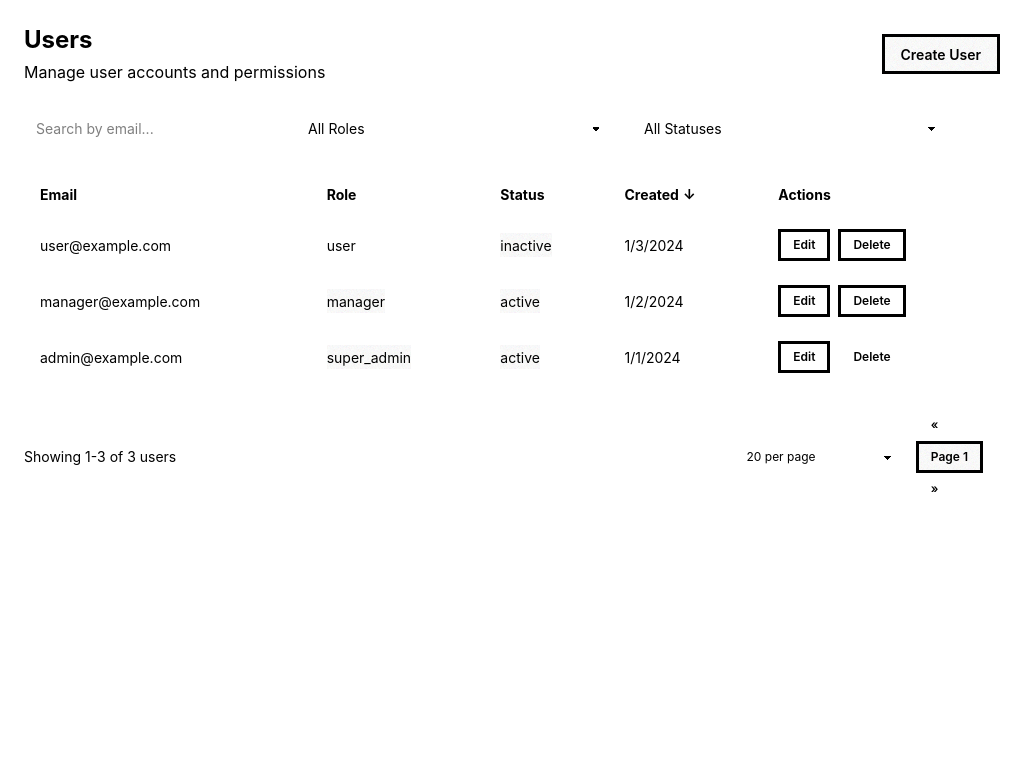
UsersTable › Create User Modal › should close modal when cancel clicked
Click the button with test id "create-user-btn".
click(941, 54)  # box [882, 34, 1000, 74]
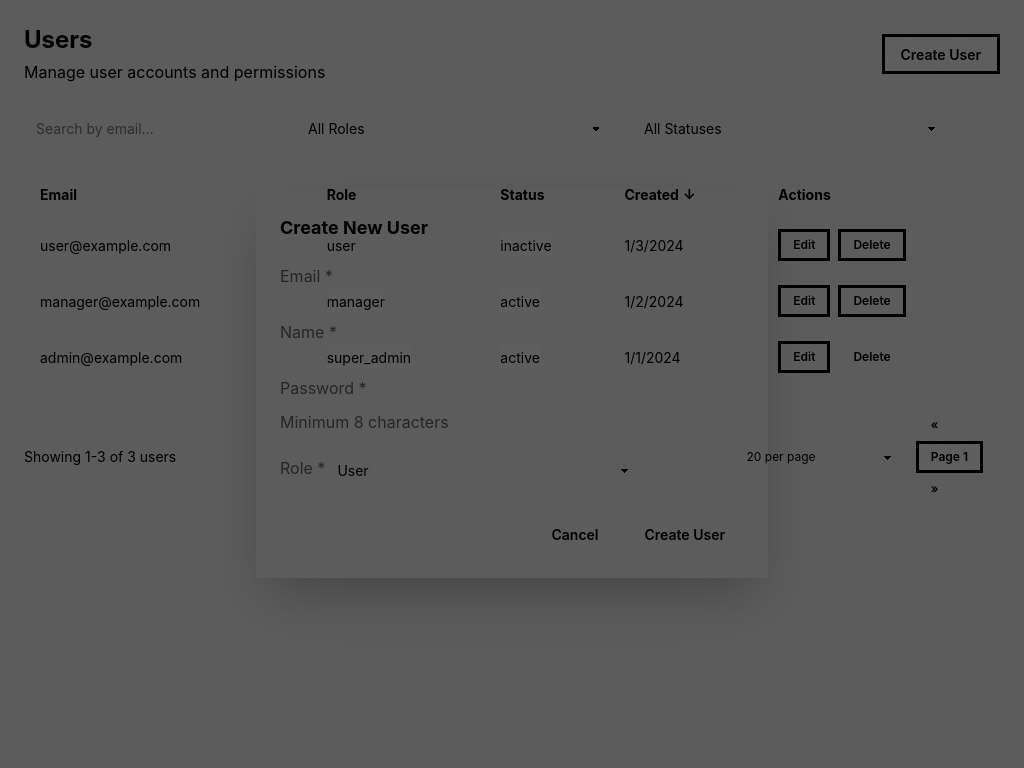
Check: the dialog with test id "create-user-modal" is shown
Note: Click cancel
Click the button "Cancel".
click(575, 534)  # box [532, 514, 618, 554]
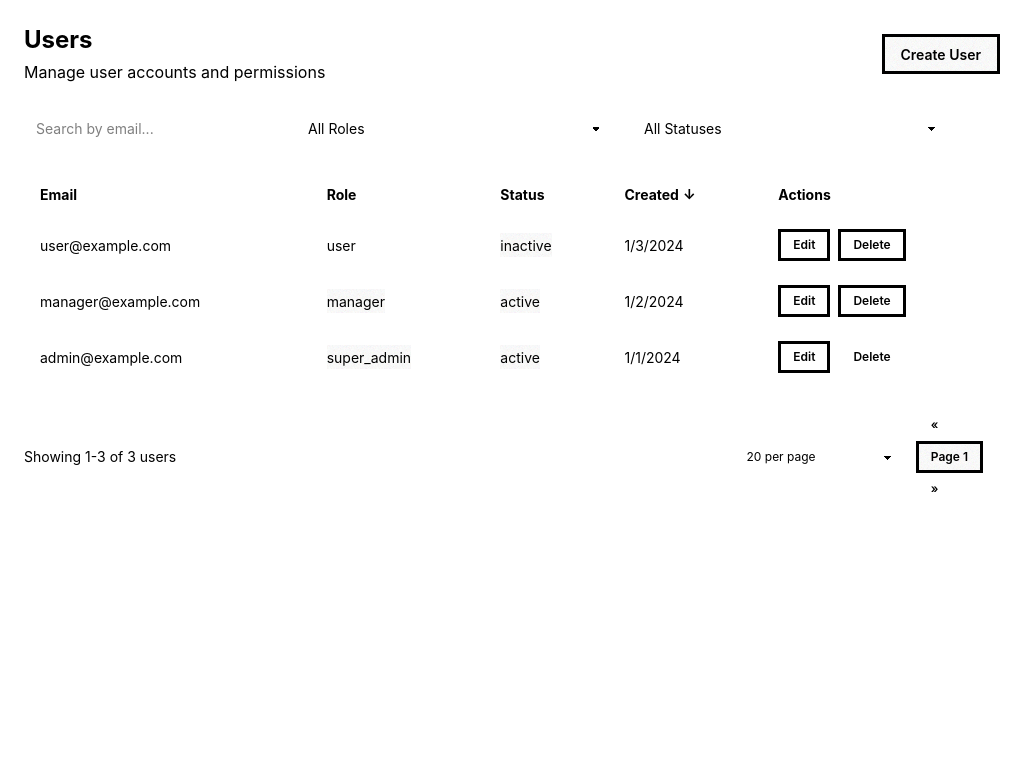
Check: the dialog with test id "create-user-modal" is gone
